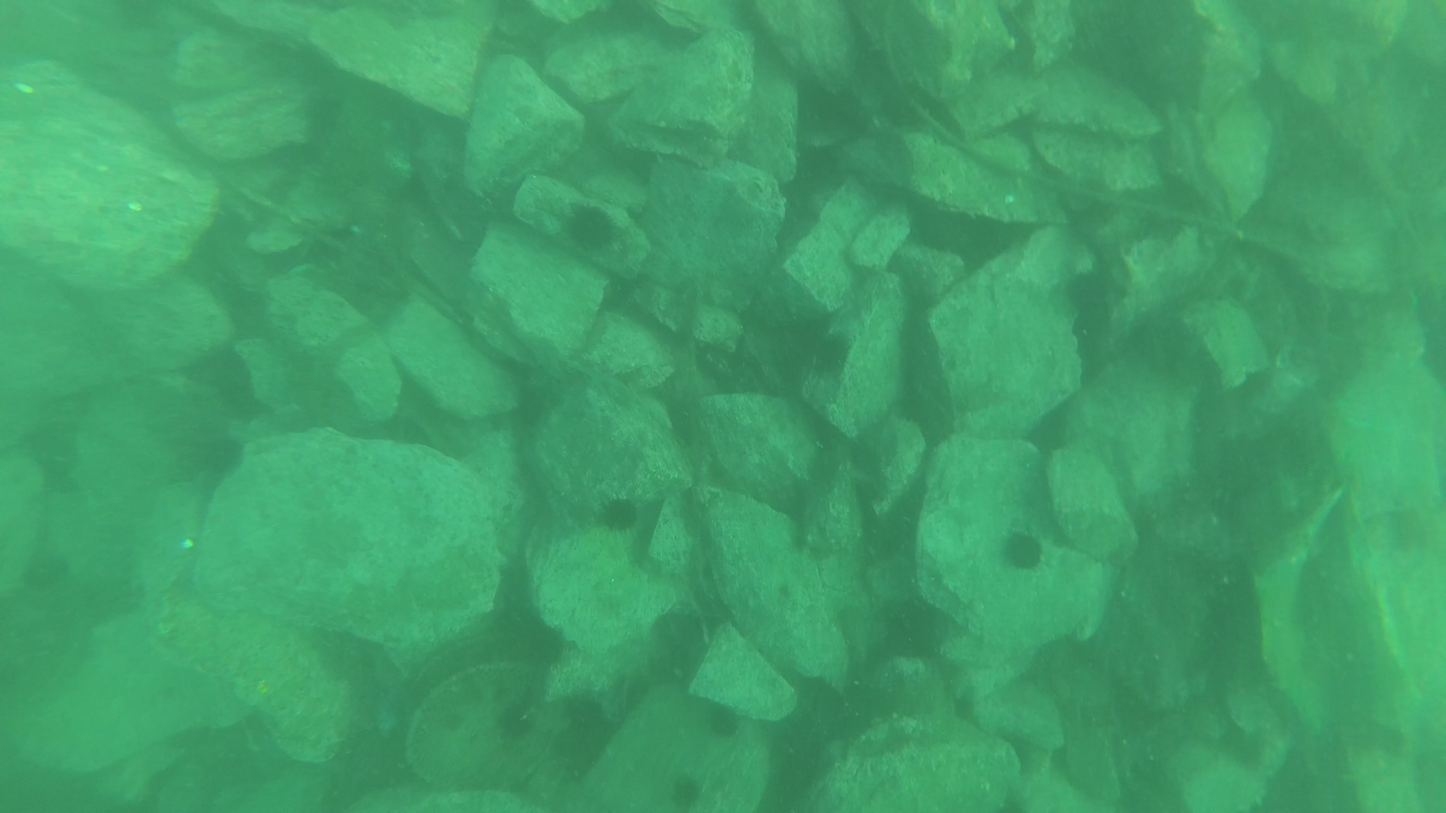starfish: (558, 194, 621, 260), (592, 486, 648, 542), (999, 519, 1046, 578)
